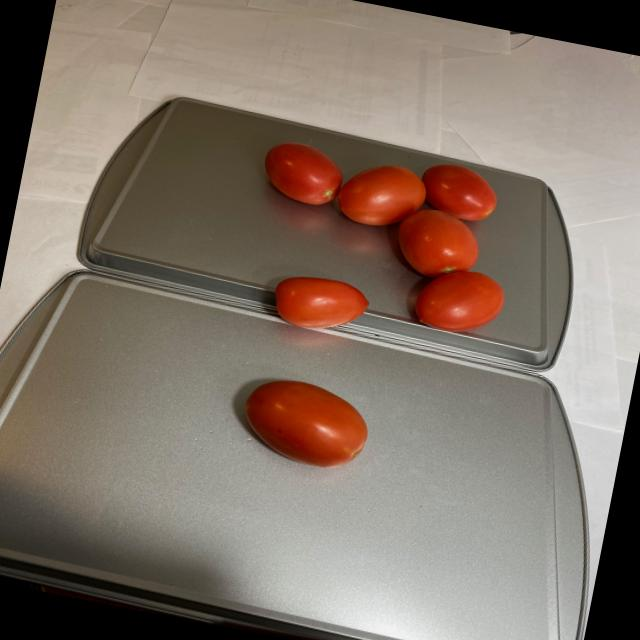tomato: (231, 127, 532, 366), (236, 369, 382, 478)
